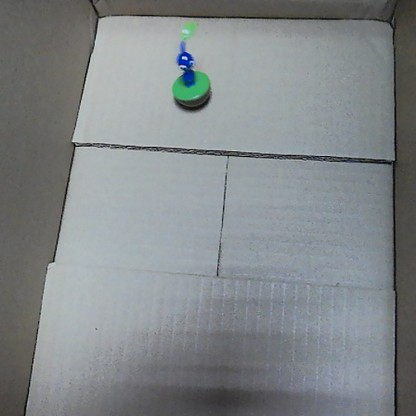leafairy: (165, 17, 214, 111)
